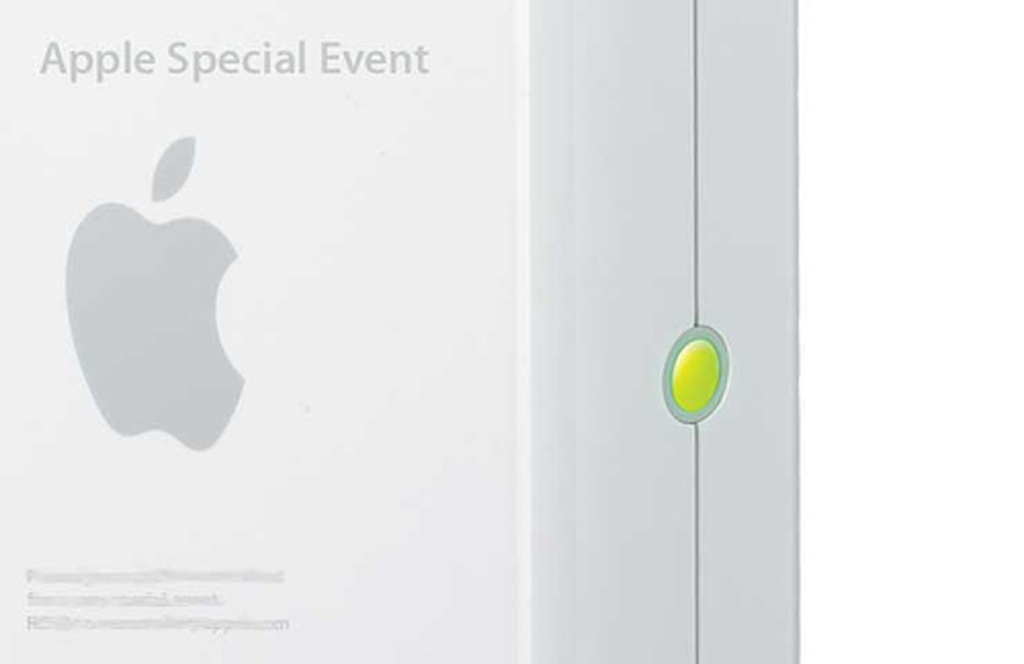Apple: (69, 166, 245, 446)
